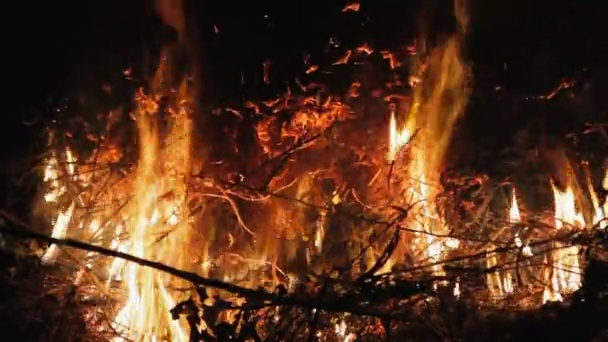fire: (41, 110, 196, 342), (385, 111, 446, 260), (553, 182, 579, 296), (594, 185, 604, 226), (510, 187, 521, 224)
